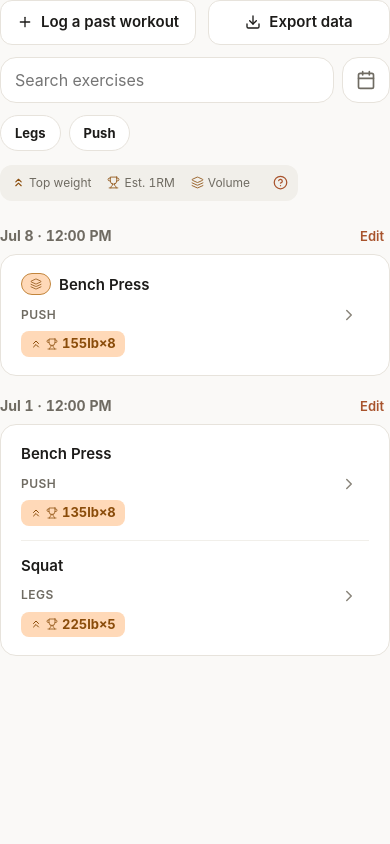
Scenario: HistoryTab PR markers, search/tag filtering, and click-to-filter › tapping an exercise name offers both destinations rather than jumping straight to one
Expected: the button "Push" is shown, [69, 115, 130, 151]
Click the button with aria-label "View options for Bench Press" at (104, 284), box [21, 273, 321, 296]
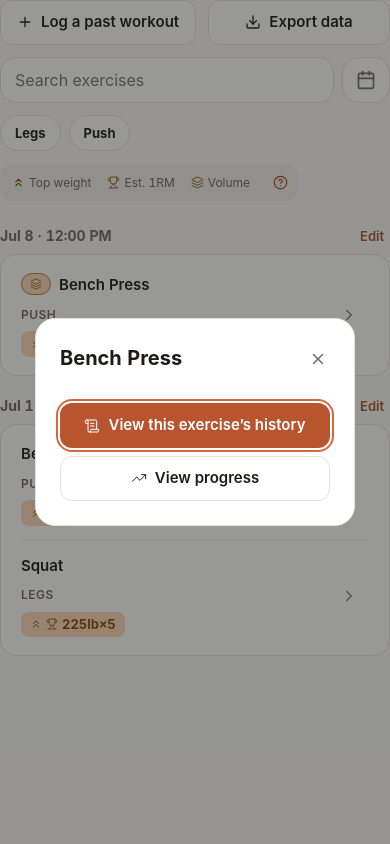
Expected: the dialog shows "Bench Press", [60, 346, 182, 370]
Expected: the button "View this exercise’s history" is shown, [60, 403, 330, 448]
Expected: the button "View progress" is shown, [60, 456, 330, 501]
